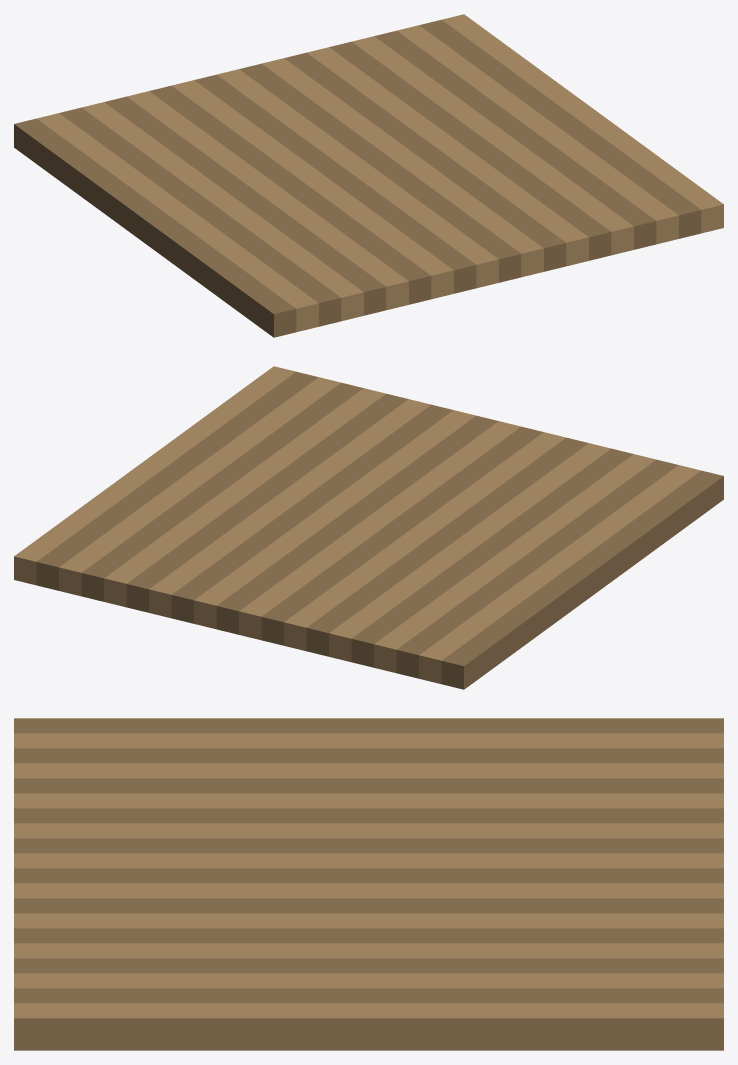
File: BlocksAndFloors-2.obj
The picture shows the model from 3 angles, top to bottom: view 1: azimuth 30°, elevation 25°; view 2: azimuth 150°, elevation 25°; view 3: azimuth 270°, elevation 25°; orthographic projection. The views are drawn at different scales.
Size of the model in its own units: 2 by 0.1 by 2.
Materials: 1 (1 with a texture image).
